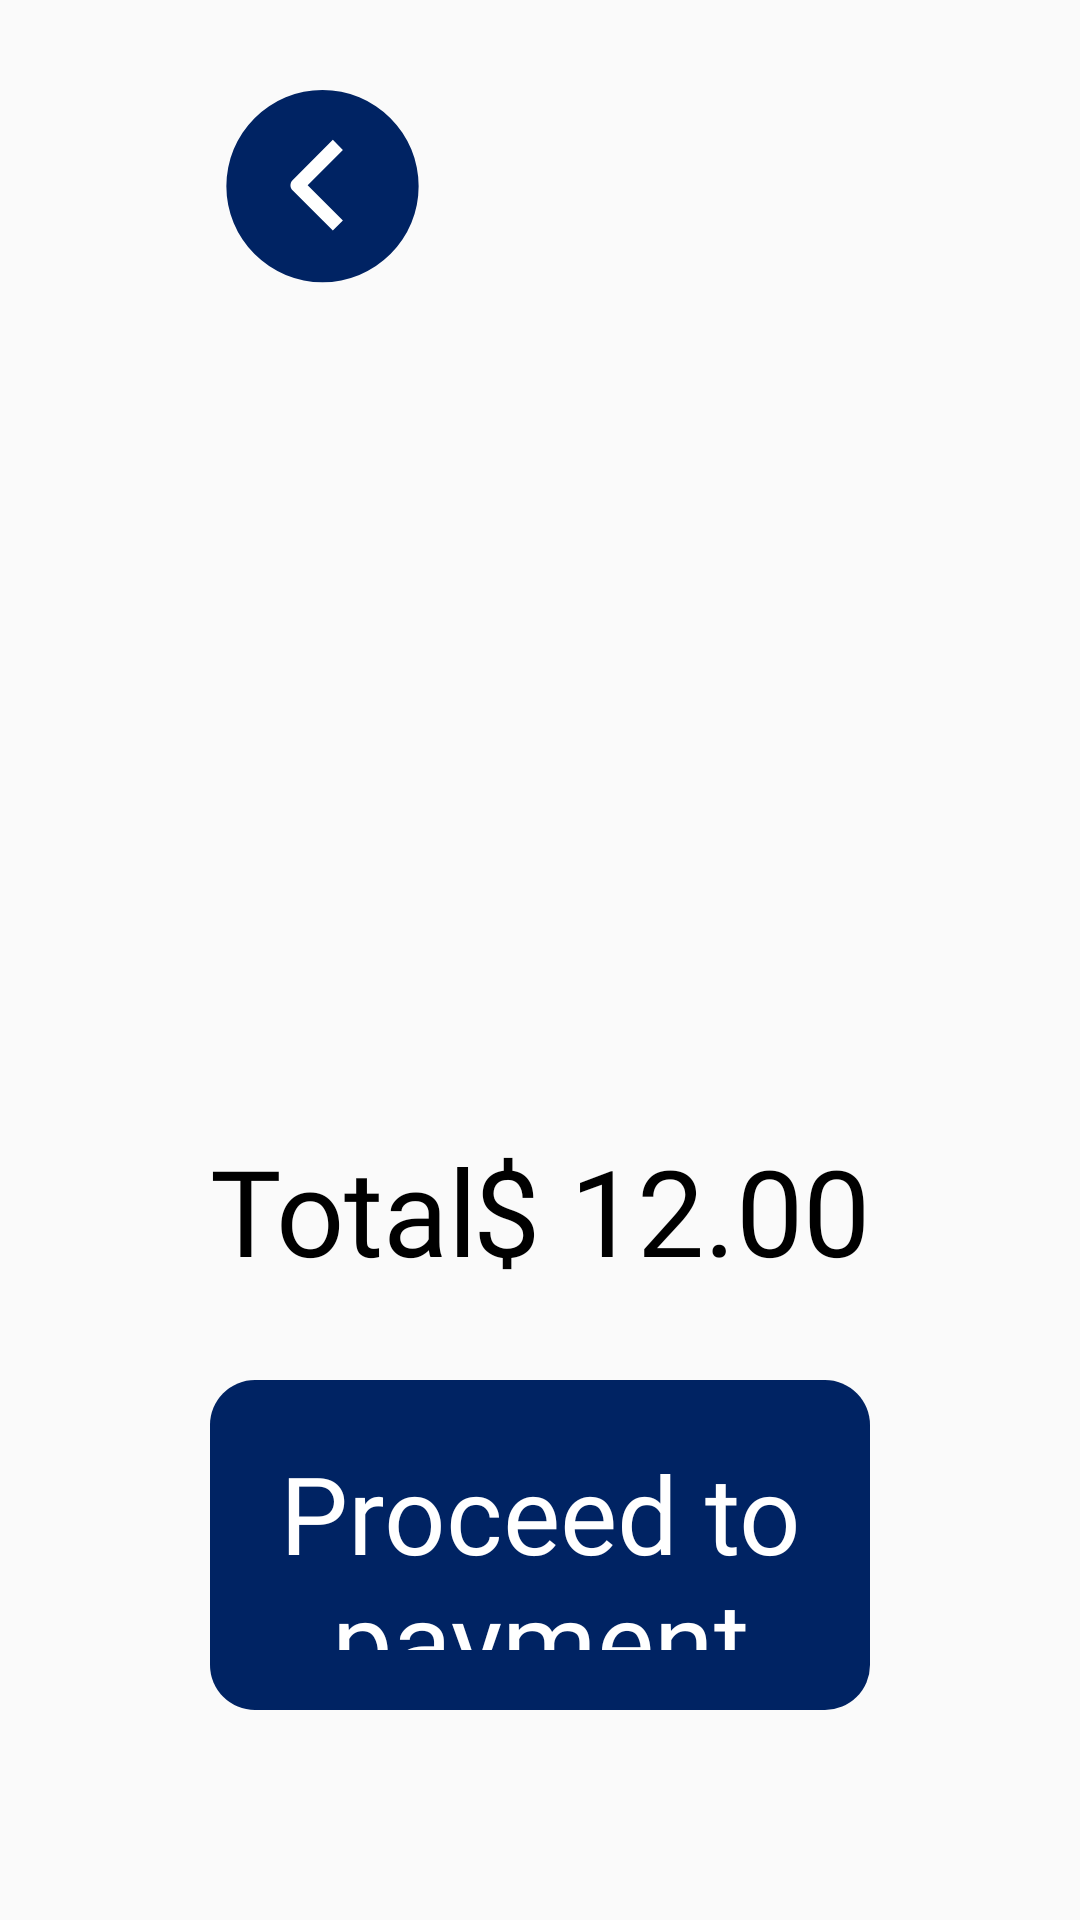

Named icons in this screenshot (1080x1920) and their bounding boxes, [x1,y1,x2,y2]:
circle left arrow: [226,90,419,283]
